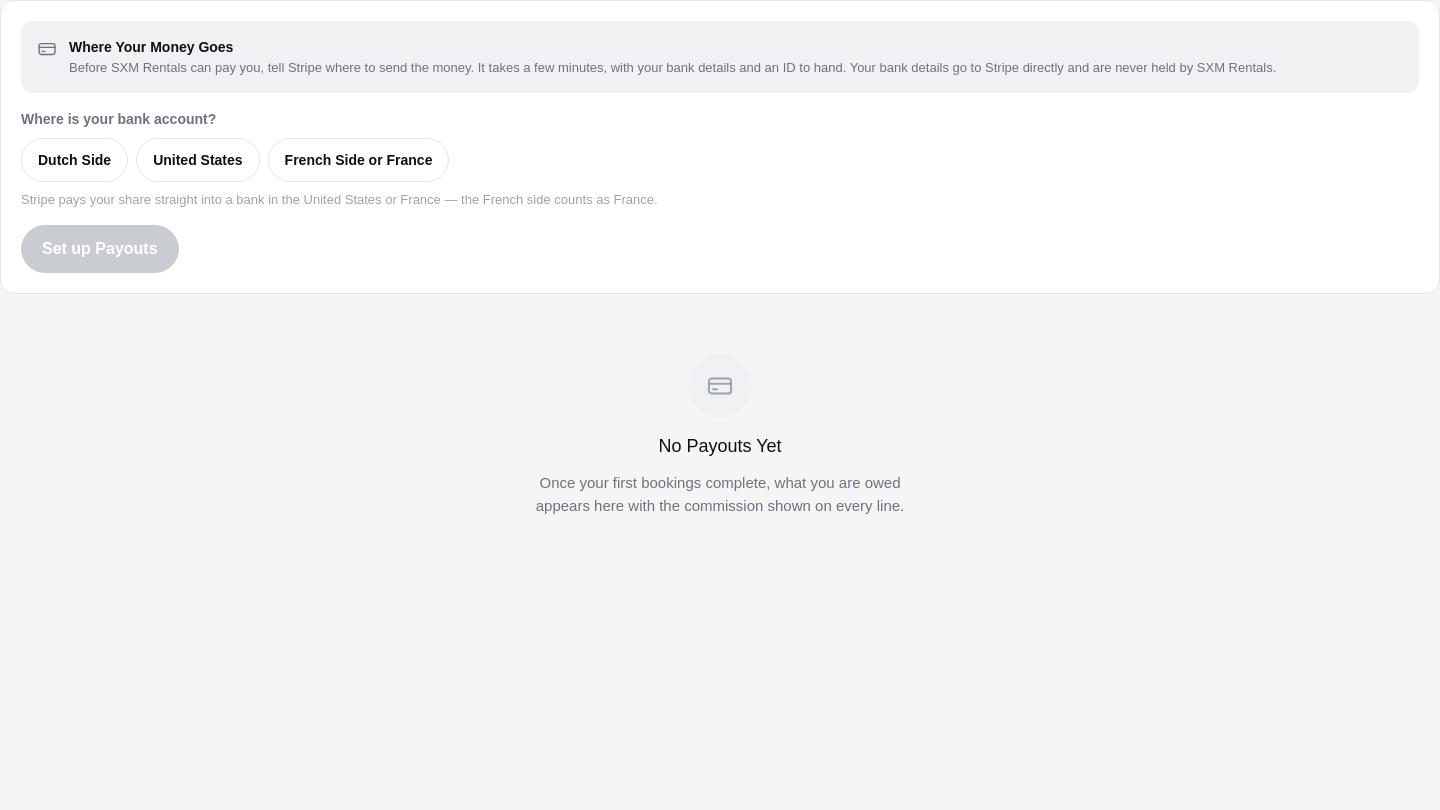
setting up where the money goes › will not send the browser anywhere but Stripe
This screenshot has width=1440, height=810.
Click the button "United States" at (198,160), box [136,138,260,182]
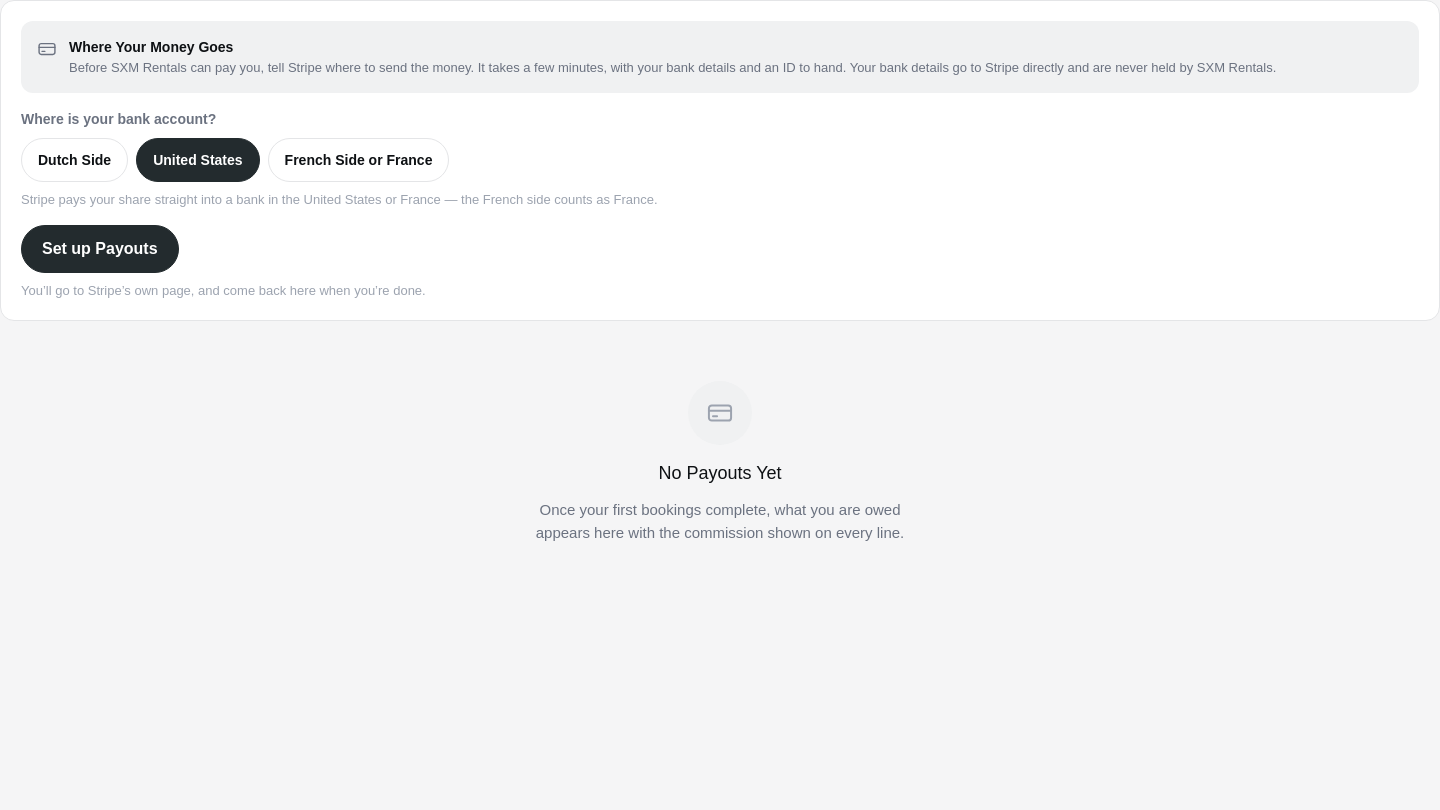
Click the button "Set up Payouts" at (100,249), box [21,225,179,273]
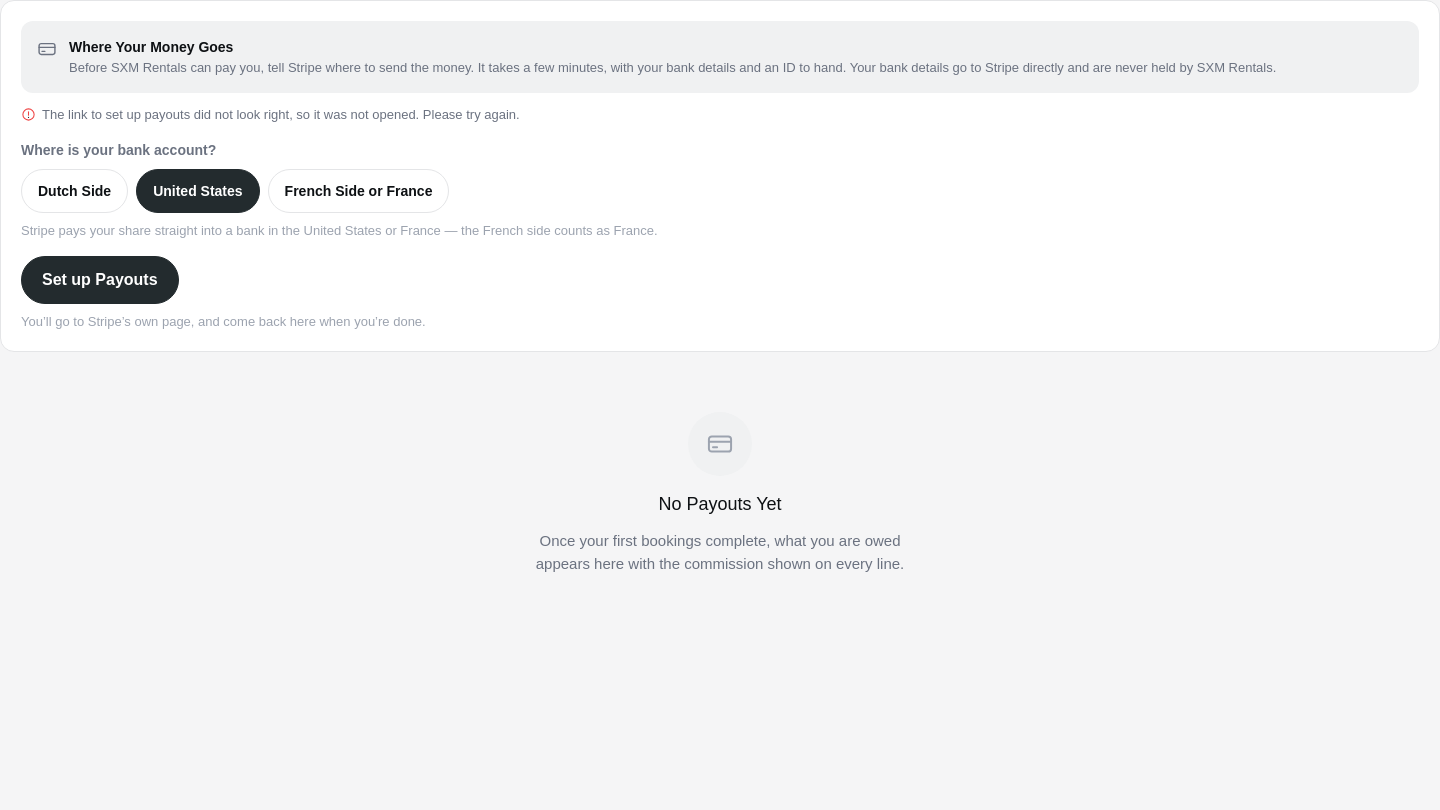
Expected: the text "did not look right" is shown, [42,107,520,122]
